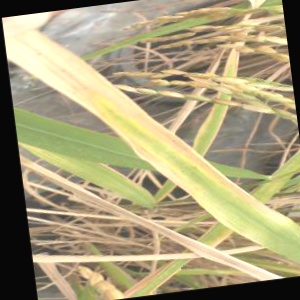Leaf_Blast: (205, 165, 270, 257)
